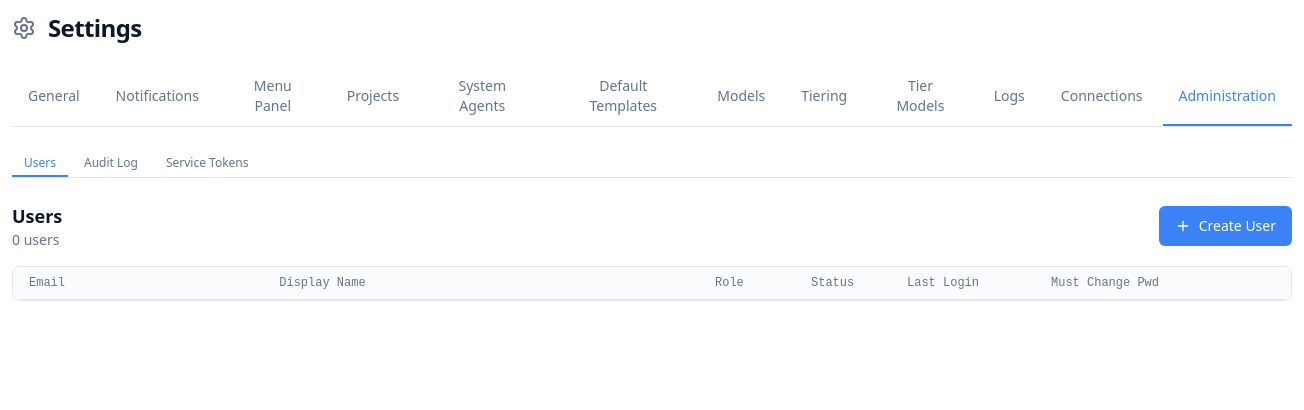
Test: SettingsPage - Administration tab › clicking Audit Log sub-tab renders AuditLogSection
Expected: the heading "Users" is shown, left=12, top=202, right=62, bottom=230
What coordinates should you click on to do the following:
click the button "Audit Log"
I would click on:
 (111, 164)
Its box is left=72, top=151, right=150, bottom=177.
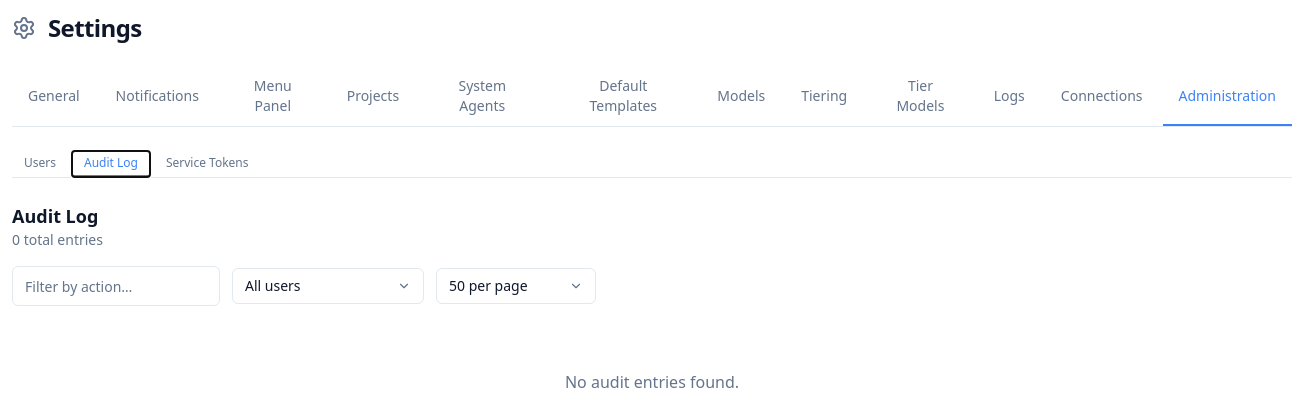
Now the heading "Audit Log" is shown, box left=12, top=204, right=98, bottom=228
Now the text "No audit entries found." is shown, box left=565, top=371, right=739, bottom=393
